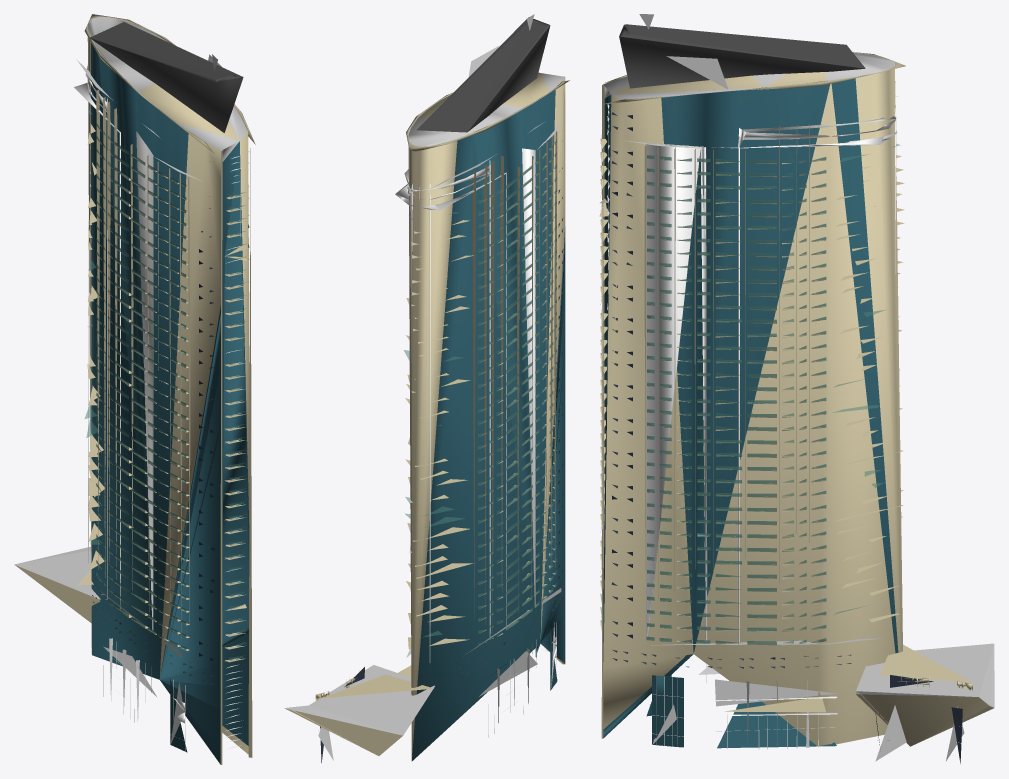
File: curved_res_tower_lod1.glb
3 views of the same model, side by side, from view 1: azimuth 30°, elevation 25°; view 2: azimuth 150°, elevation 25°; view 3: azimuth 270°, elevation 25° (orthographic). The views are drawn at different scales.
Parts seen in each view (by area): view 1: curved_res_tower; view 2: curved_res_tower; view 3: curved_res_tower.
Part boxes in pixels (x1=…): curved_res_tower: x1=14, y1=14, x2=255, y2=764; curved_res_tower: x1=284, y1=14, x2=569, y2=762; curved_res_tower: x1=599, y1=14, x2=994, y2=763.
Bounding box in the file's own units: 39.31 × 200 × 99.86.
